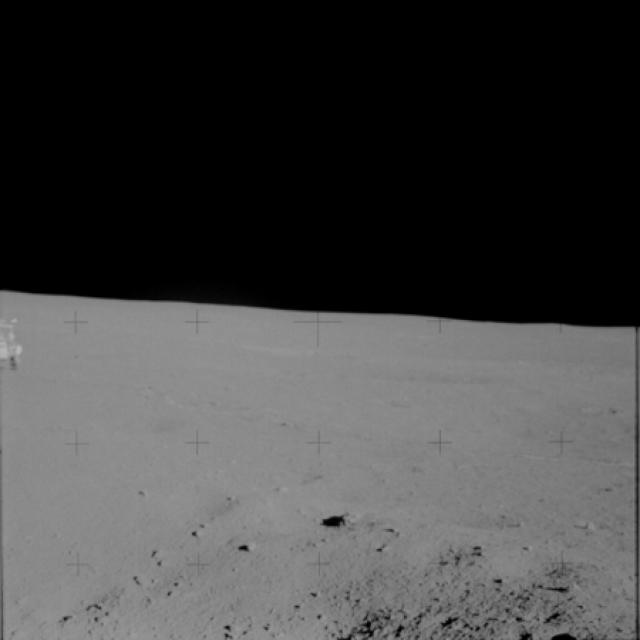rock: (320, 508, 378, 530)
